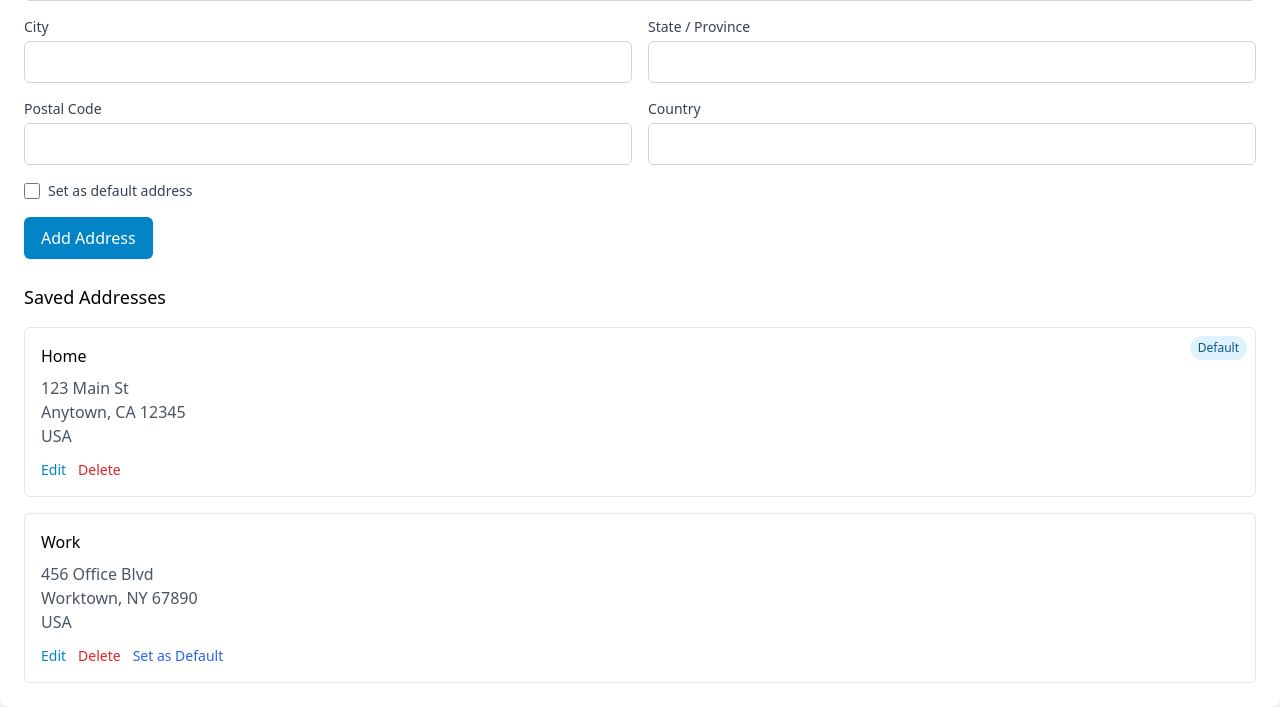
Test: AddressManager Component › handles canceling edit mode
(page scrolled)
Click edit button for the first address
Click the button "Edit" below "Anytown": [54, 470] box [41,460,66,480]
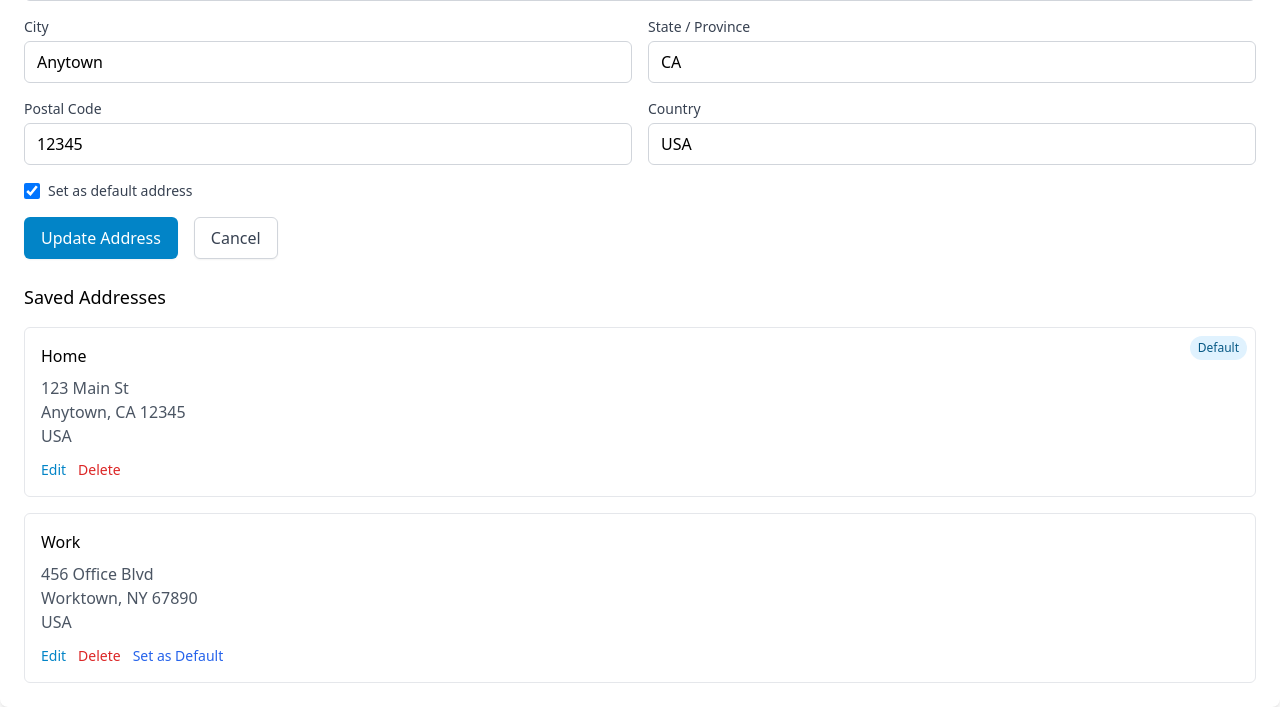
Now the button "Update Address" is shown, box [24,217,178,259]
Now the button with test id "cancel-edit-button" is shown
Click cancel button
Click the button with test id "cancel-edit-button": [236, 238] box [194,217,278,259]
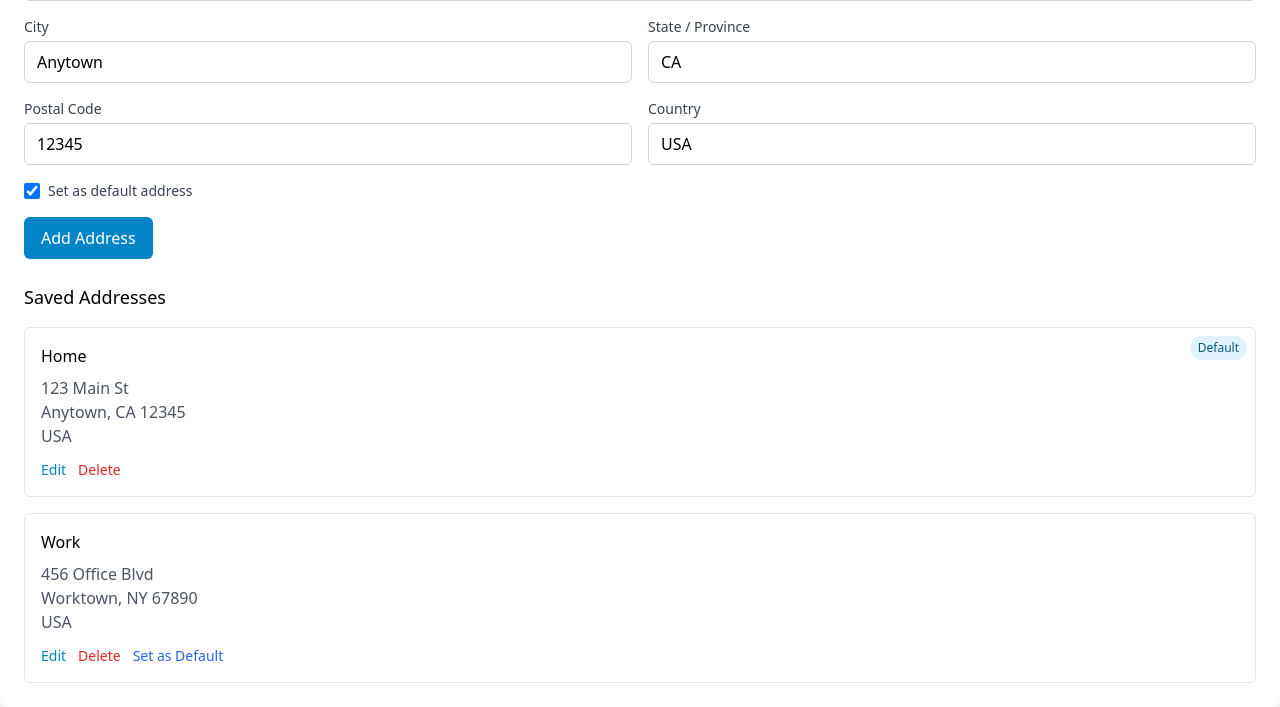
Now the button "Add Address" is shown, box [24,217,153,259]
Now the button with test id "cancel-edit-button" is gone
